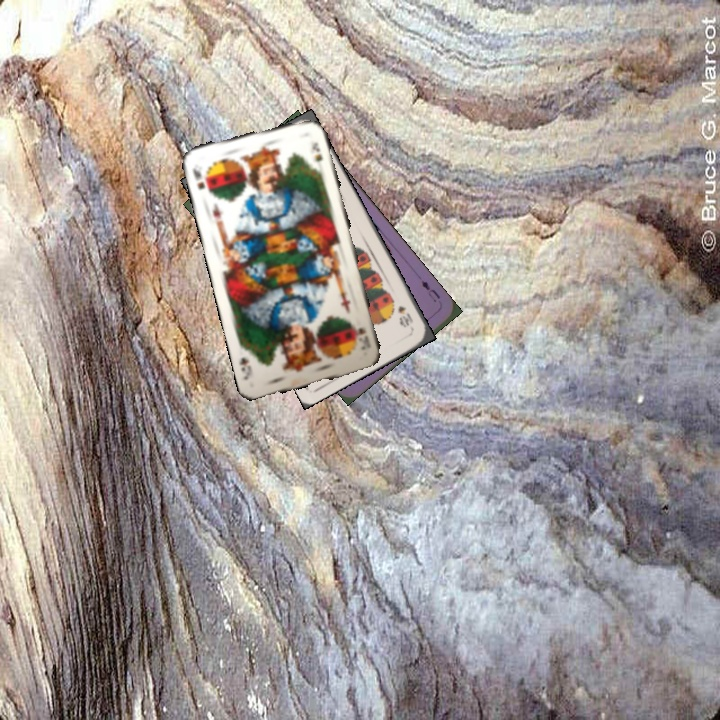EU: (417, 276, 443, 305)
S10: (393, 302, 416, 332)
SK: (189, 164, 213, 197), (350, 320, 370, 352)
